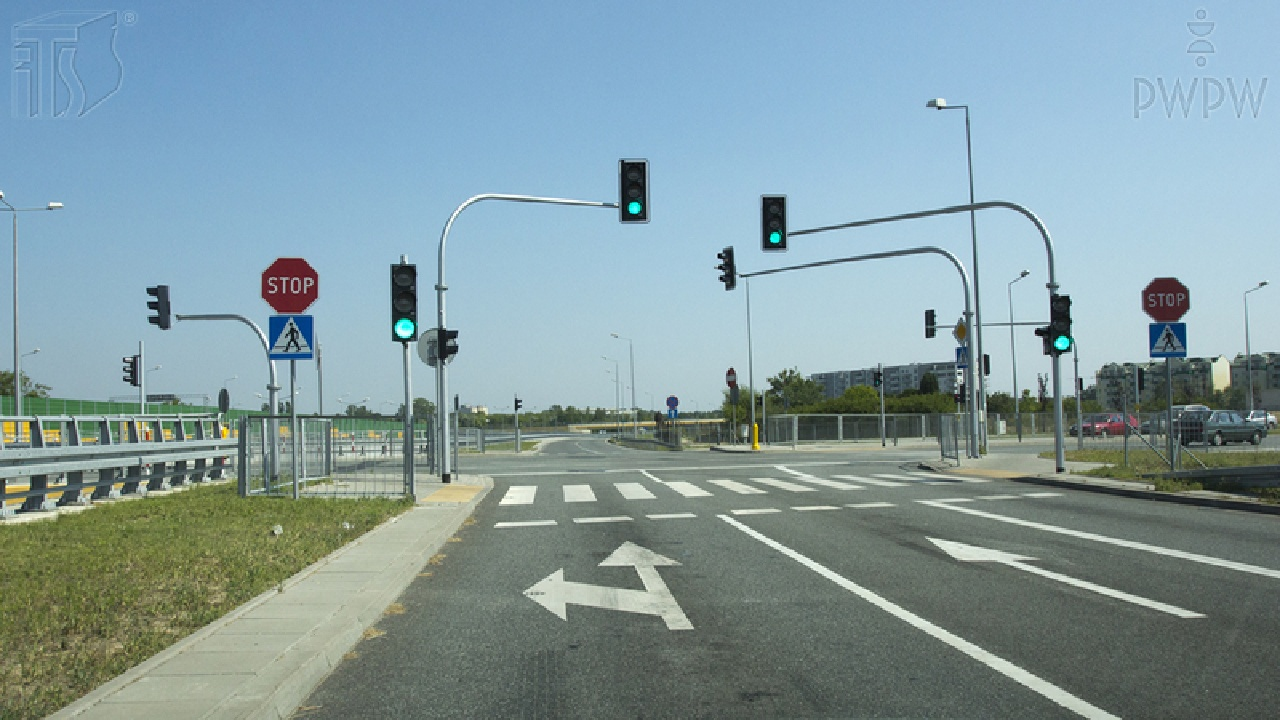B20: (261, 257, 319, 314), (1141, 277, 1192, 323)
D6: (268, 314, 315, 360), (1149, 322, 1188, 357)
Green: (392, 265, 416, 339), (623, 161, 646, 219), (1052, 295, 1071, 352), (766, 197, 783, 247)
